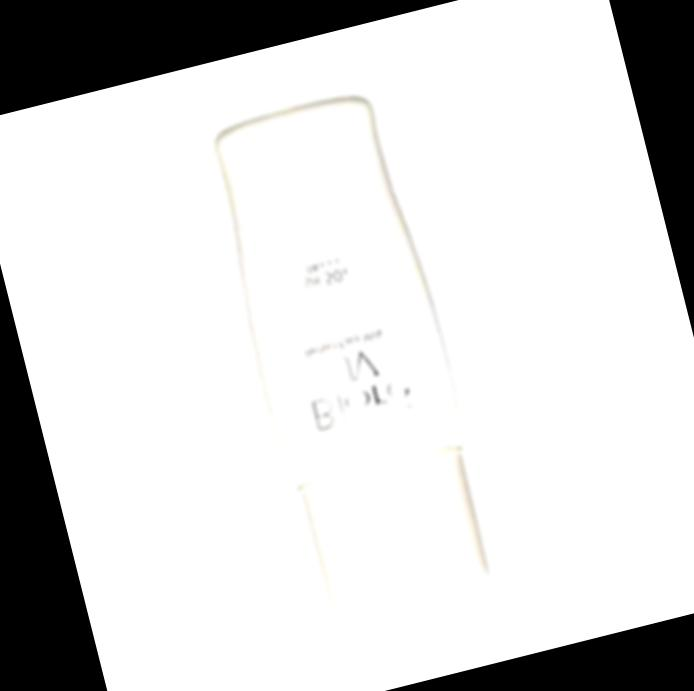cosmetic: (203, 84, 505, 622)
